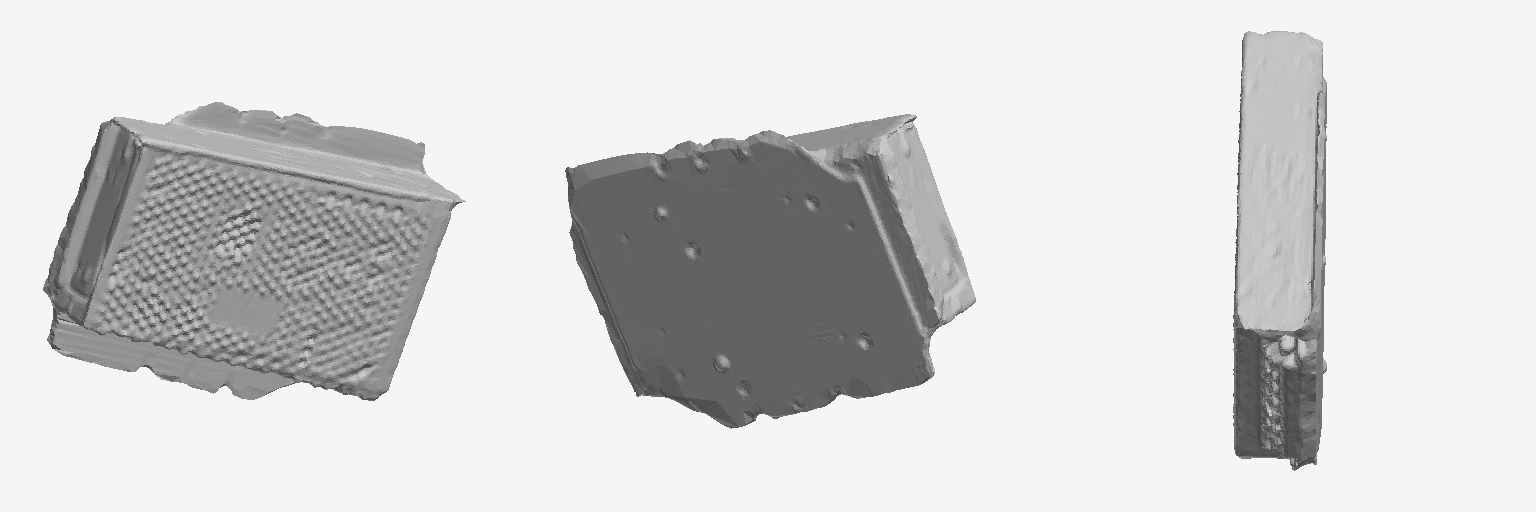
File: Transformator_1.obj
The picture shows the model from 3 angles: view 1: azimuth 30°, elevation 25°; view 2: azimuth 150°, elevation 25°; view 3: azimuth 270°, elevation 25°; orthographic projection.
Size of the model in its own units: 216 by 173 by 45.67.